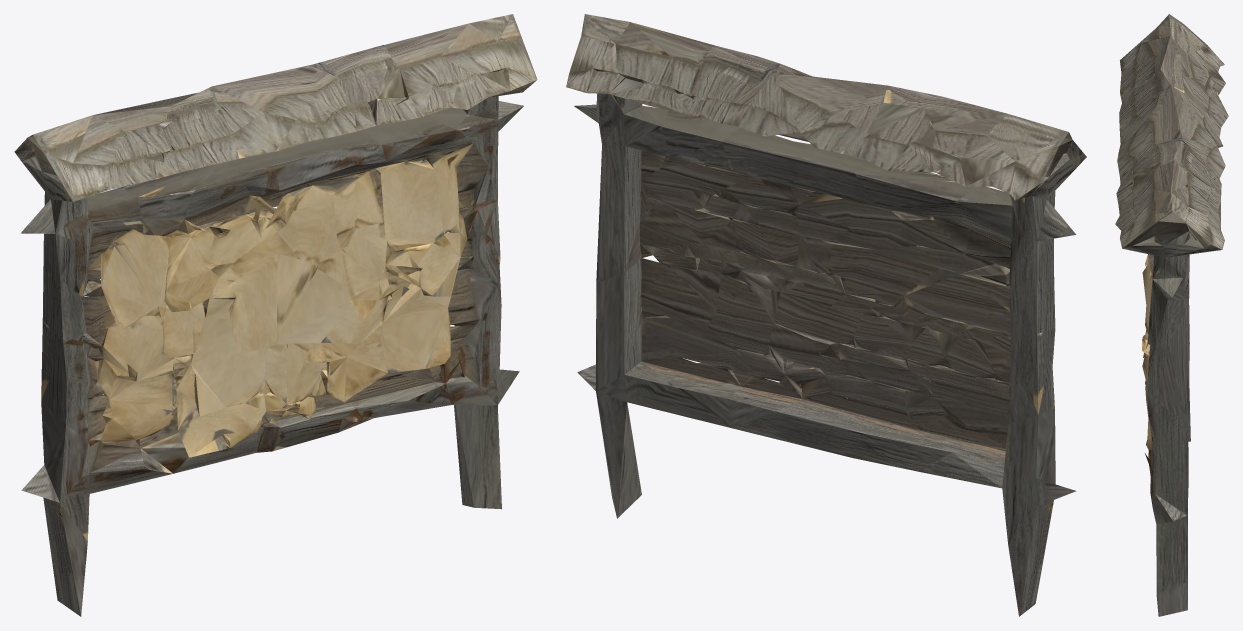
File: bounty_board.glb
3 views of the same model, side by side, from view 1: azimuth 30°, elevation 25°; view 2: azimuth 150°, elevation 25°; view 3: azimuth 270°, elevation 25° (orthographic). The views are drawn at different scales.
Visible parts, largest first — view 1: mesh_node; view 2: mesh_node; view 3: mesh_node.
Boxes of the visible parts, x1,y1,x2,y2 form: mesh_node: [14, 14, 537, 616]; mesh_node: [566, 14, 1086, 616]; mesh_node: [1115, 14, 1228, 616].
Bounding box in the file's own units: 1.93 × 1.8 × 0.4427.
Materials: 1 (1 with a texture image).
